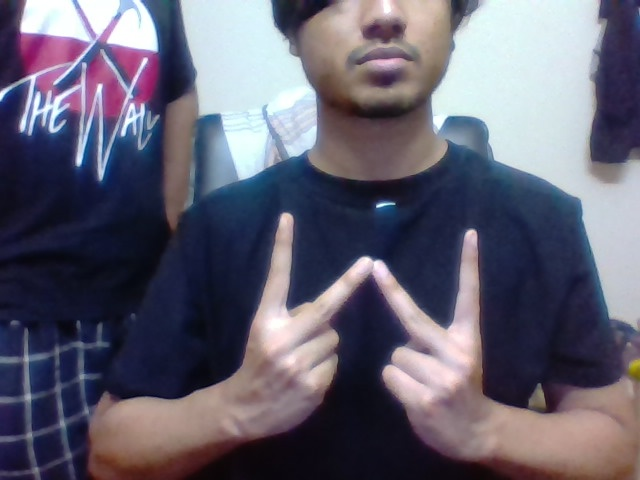W: (256, 204, 491, 339)
